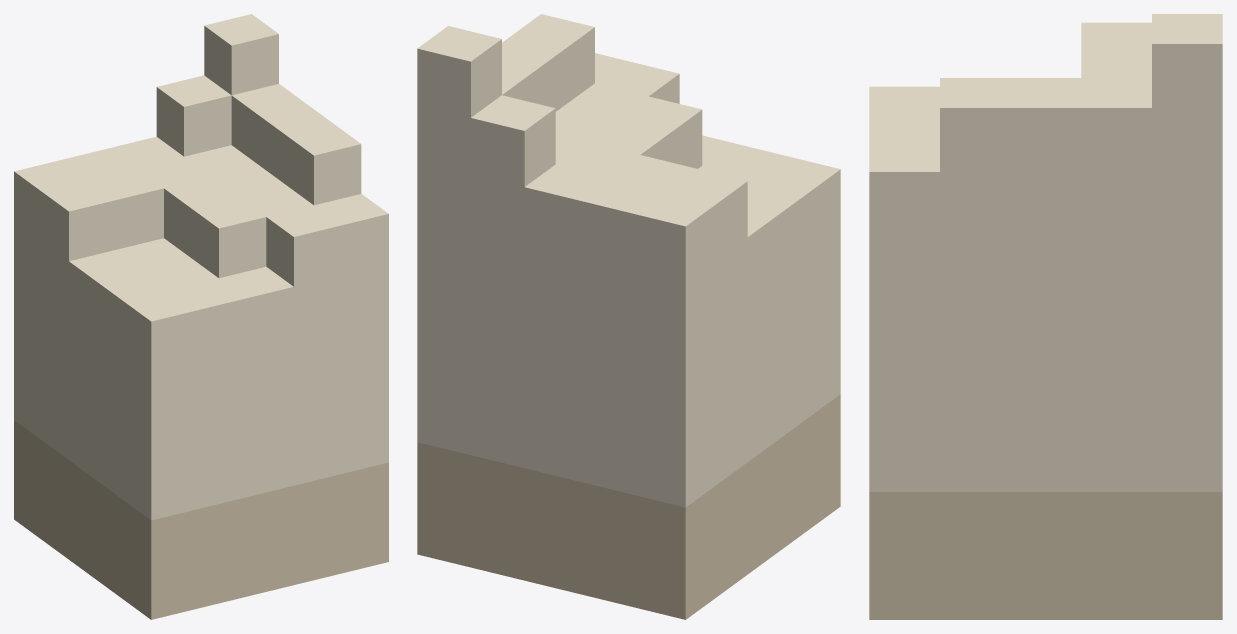
File: polar_bear__leg_bl.glb
3 renders of one model, left to right at view 1: azimuth 30°, elevation 25°; view 2: azimuth 150°, elevation 25°; view 3: azimuth 270°, elevation 25°, orthographic. The views are drawn at different scales.
Parts seen in each view (by area): view 1: polar_bear__leg_bl; view 2: polar_bear__leg_bl; view 3: polar_bear__leg_bl.
Boxes of the visible parts, bbox=[...] form: polar_bear__leg_bl: bbox=[14, 14, 388, 619]; polar_bear__leg_bl: bbox=[417, 14, 840, 619]; polar_bear__leg_bl: bbox=[869, 14, 1222, 619].
Size of the model in its own units: 0.5 by 0.9 by 0.5.
1 material, 1 textured.
